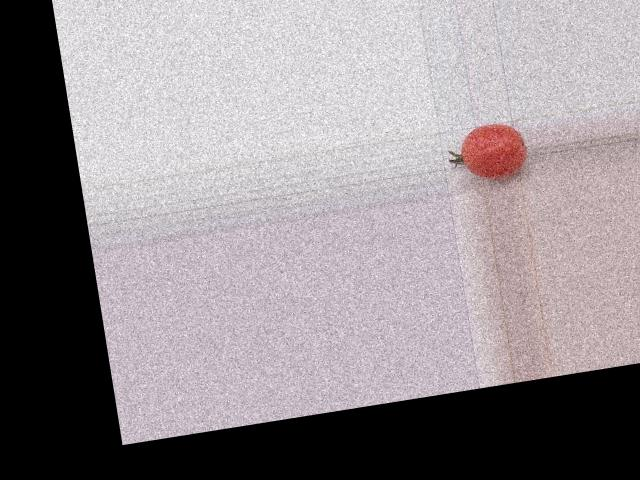tomato: (457, 119, 530, 182)
